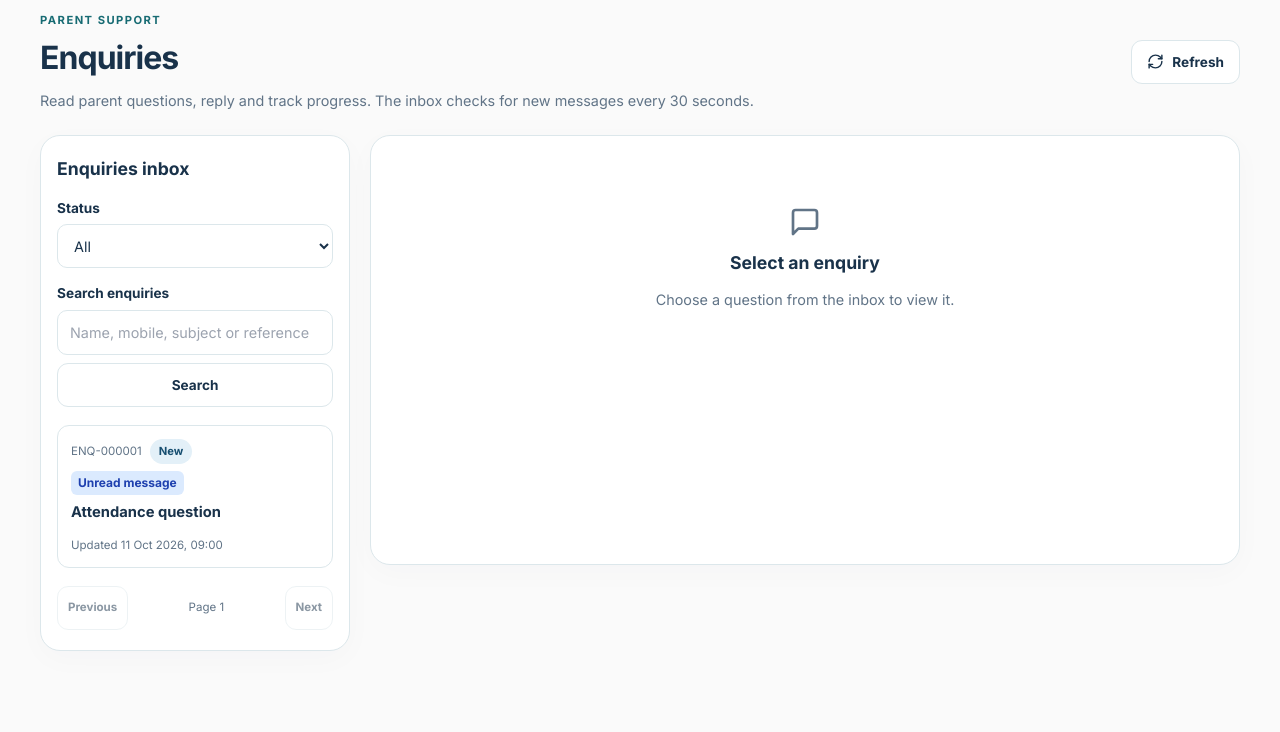
Test: a failed read acknowledgement keeps the unread marker and the conversation available
The image size is (1280, 732).
Click the button with class "enquiry-row".
click(106, 451)  # box [57,425,333,568]
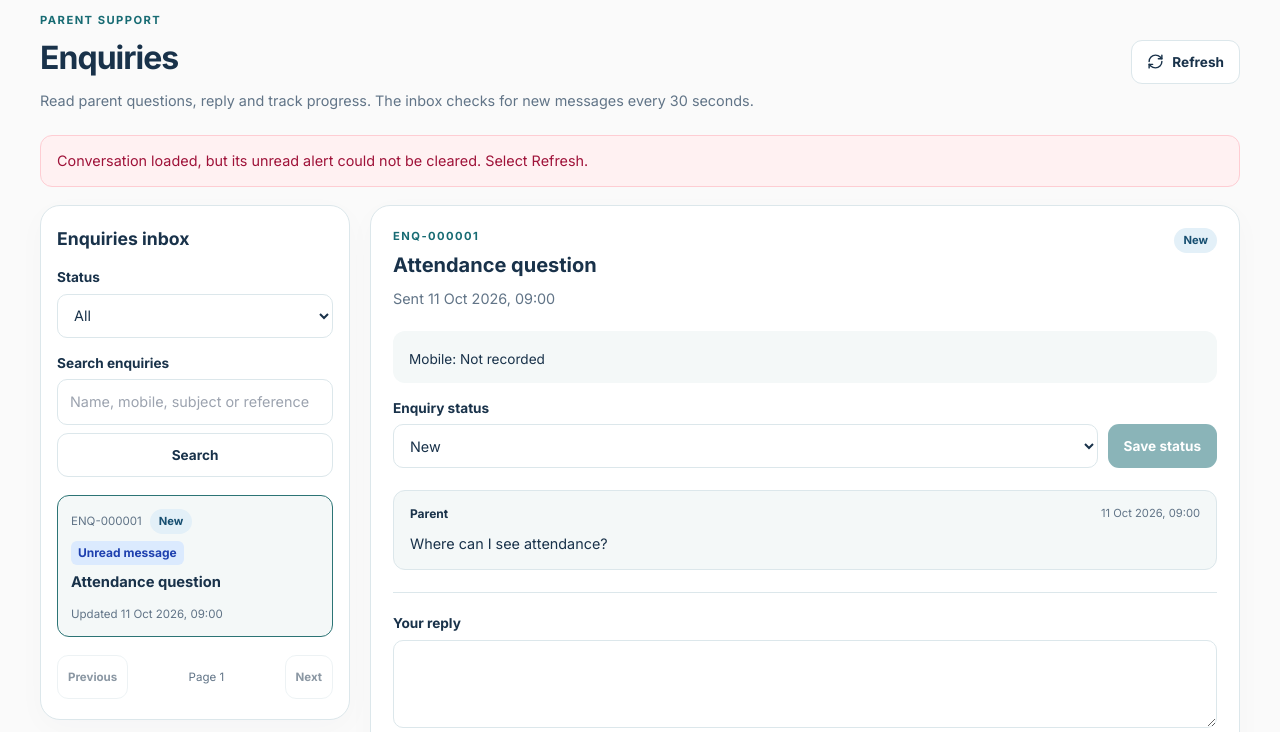
Expected: the text "Unread message" is shown, [71,541,184,565]
Result: the text "unread alert could not be cleared" is shown at [57,152,588,169]
Result: the text box with id "enquiry-reply" is shown at [393,640,1217,728]
